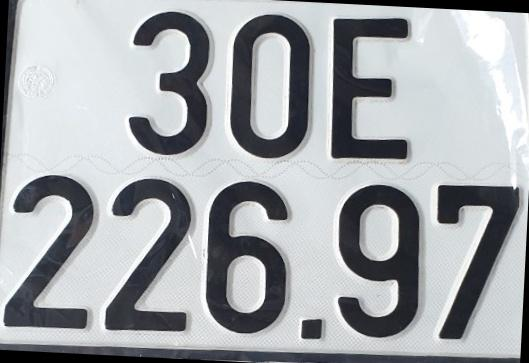.: (299, 318, 324, 340)
0: (226, 12, 312, 160)
2: (4, 172, 92, 330), (104, 179, 190, 332)
3: (124, 8, 210, 161)
6: (204, 180, 291, 336)
7: (434, 183, 521, 340)
9: (332, 183, 422, 340)
E: (329, 17, 413, 165)
